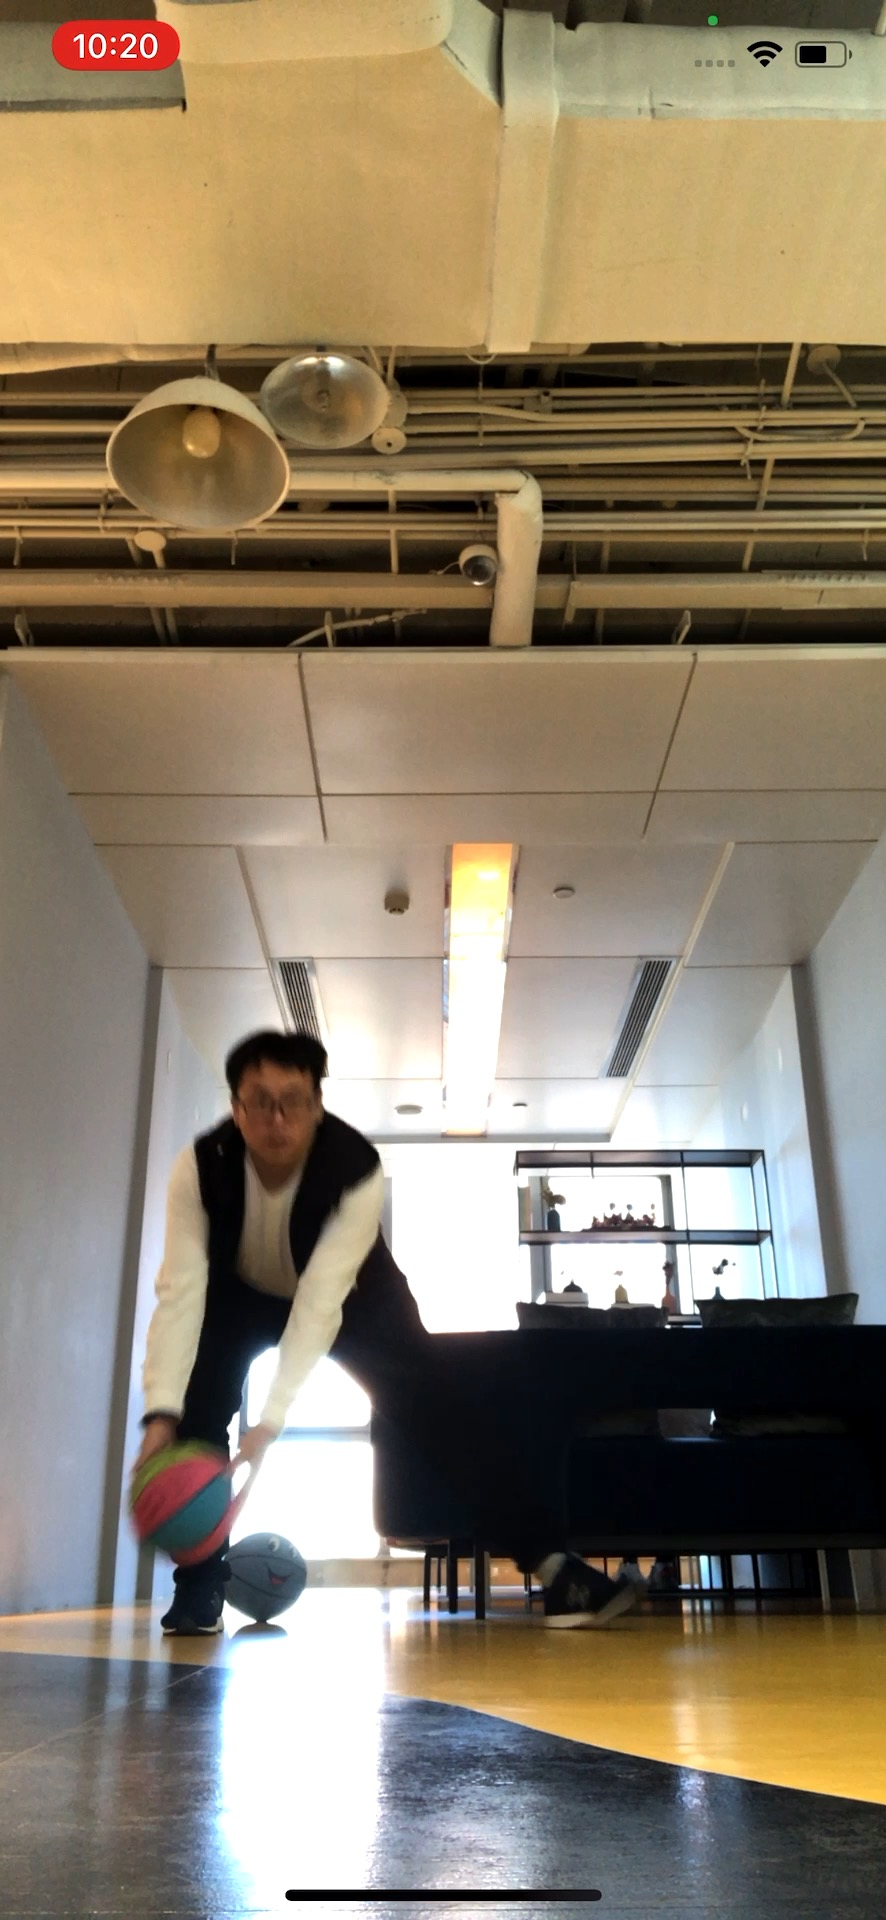ball: (131, 1439, 231, 1555)
